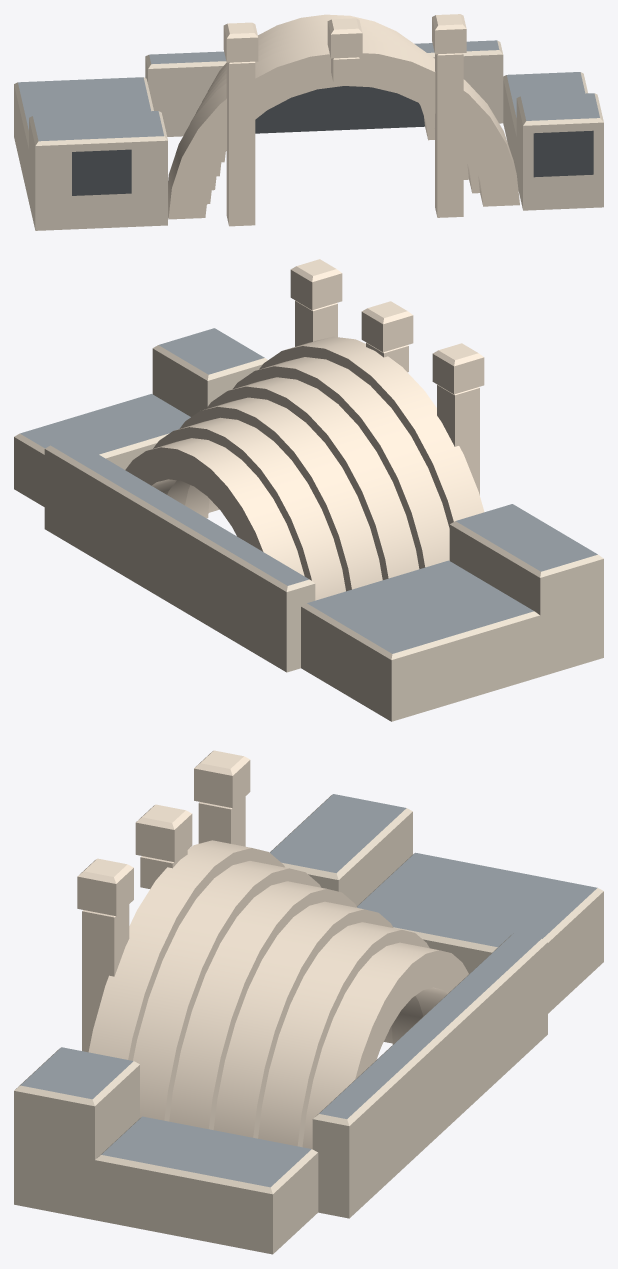
File: detail.glb
3 views of the same model, one above another, from view 1: azimuth 30°, elevation 25°; view 2: azimuth 150°, elevation 25°; view 3: azimuth 270°, elevation 25° (orthographic). The views are drawn at different scales.
Visible parts, largest first — view 1: hollywood-bowl; view 2: hollywood-bowl; view 3: hollywood-bowl.
Boxes of the visible parts, x1,y1,x2,y2 form: hollywood-bowl: [14, 14, 603, 230]; hollywood-bowl: [14, 259, 603, 721]; hollywood-bowl: [14, 750, 603, 1254].
Size of the model in its own units: 68.87 by 24 by 49.76.
